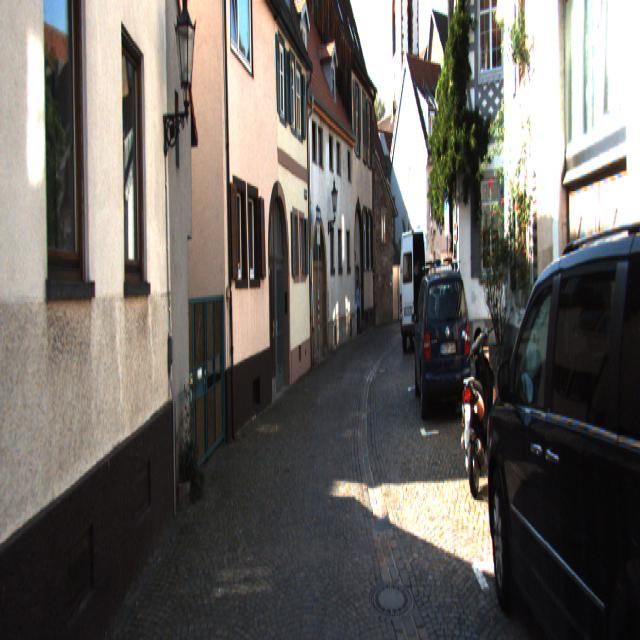Car: (480, 204, 640, 638), (414, 268, 471, 424)
DontCare: (352, 270, 364, 342)
Misc: (458, 320, 496, 510)
Van: (399, 225, 437, 354)
